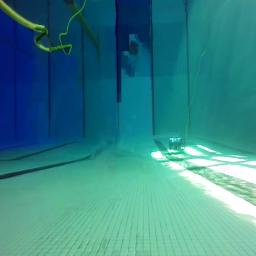front: (167, 137, 186, 150)
